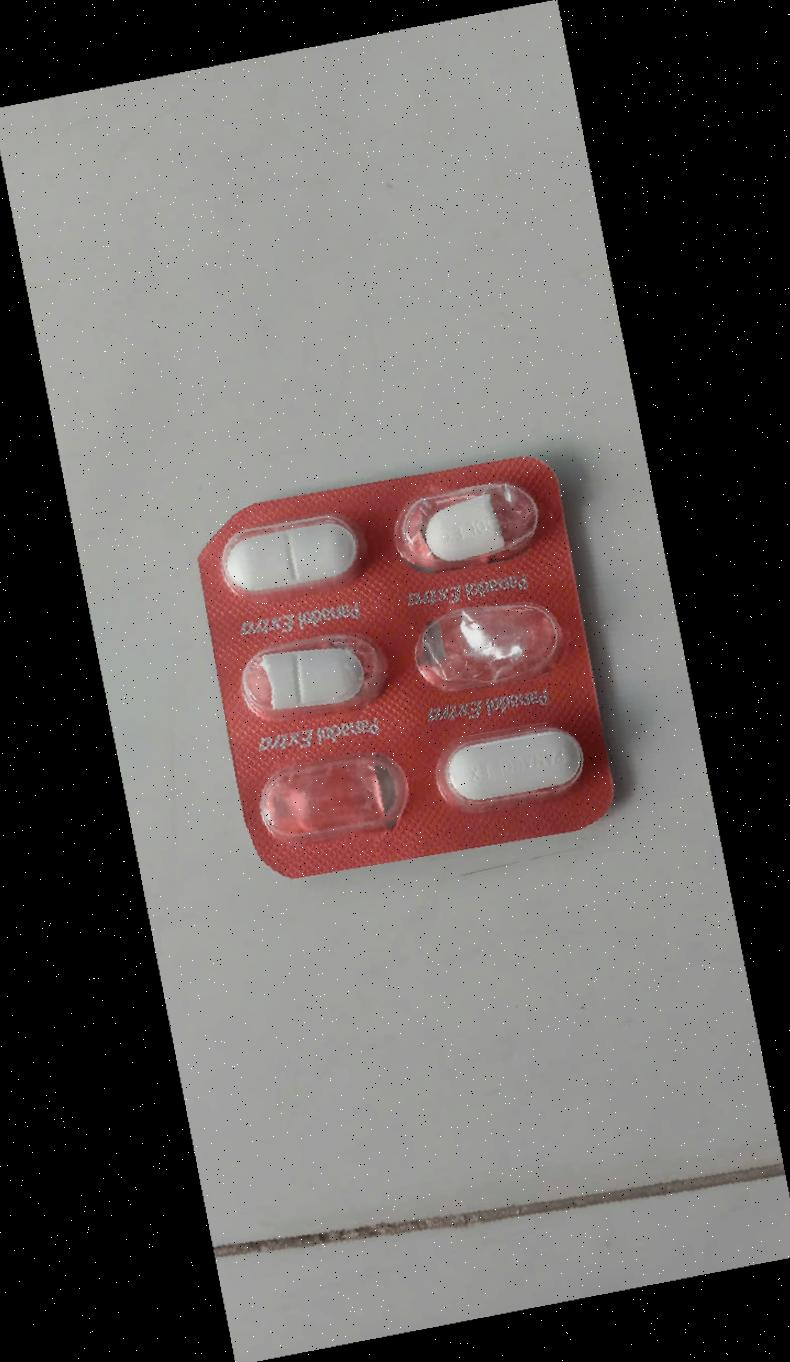Empty: (245, 737, 417, 853), (398, 589, 571, 704)
Full: (206, 498, 378, 614), (422, 710, 595, 825)
Partial: (223, 618, 396, 734), (376, 469, 549, 585)
